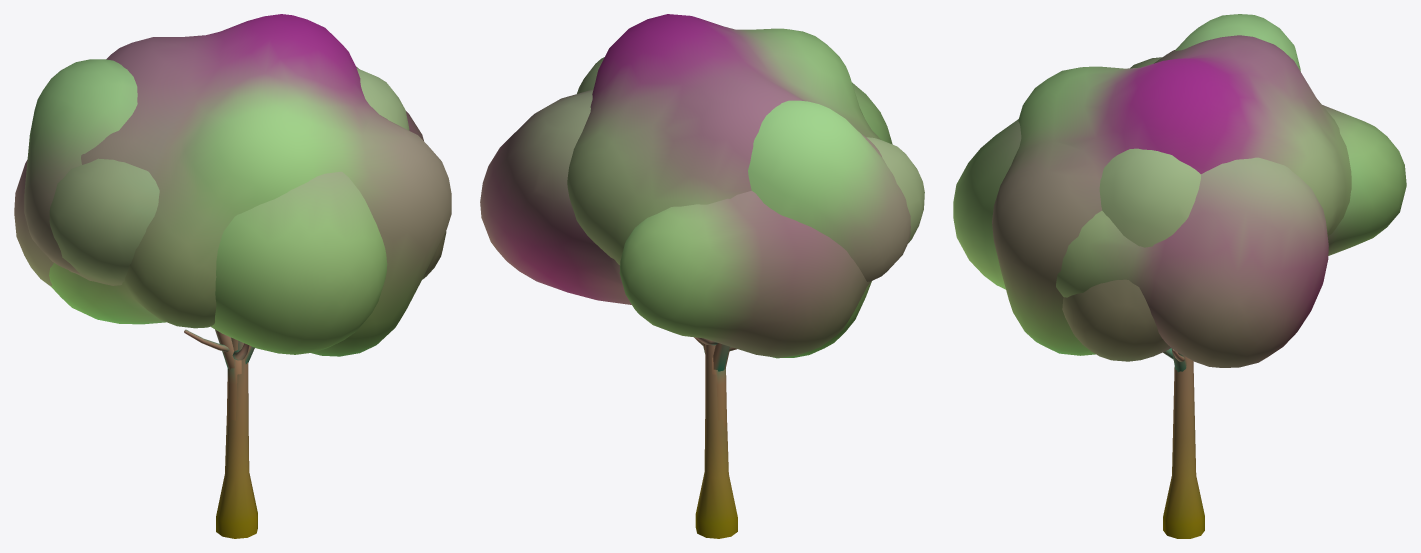
The model's file is round.glb.
3 renders of one model, left to right at view 1: azimuth 30°, elevation 25°; view 2: azimuth 150°, elevation 25°; view 3: azimuth 270°, elevation 25°, orthographic. The views are drawn at different scales.
Visible parts, largest first — view 1: round_0_lod0, round_1_lod0, round_2_lod0; view 2: round_1_lod0, round_0_lod0, round_2_lod0; view 3: round_1_lod0, round_0_lod0, round_2_lod0.
Part boxes in pixels (<box>): round_0_lod0: <box>49,14,451,356</box>; round_1_lod0: <box>14,66,423,538</box>; round_2_lod0: <box>24,59,446,426</box>; round_1_lod0: <box>480,82,924,538</box>; round_0_lod0: <box>567,14,882,358</box>; round_2_lod0: <box>577,57,910,426</box>; round_1_lod0: <box>953,57,1406,538</box>; round_0_lod0: <box>992,35,1351,355</box>; round_2_lod0: <box>1062,14,1300,372</box>.
Size of what is drawn, in the model's own units: 8.55 by 10.2 by 8.66.
